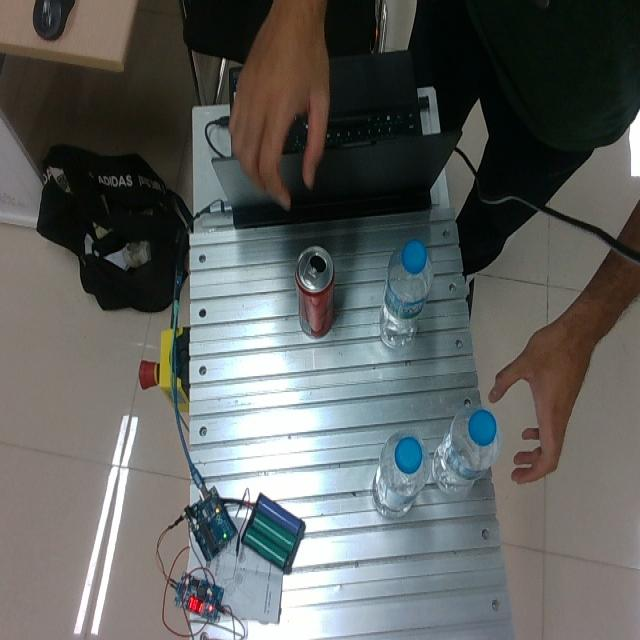coca: (294, 244, 335, 339)
lavie: (430, 404, 501, 493), (378, 239, 433, 349), (373, 429, 430, 516)
